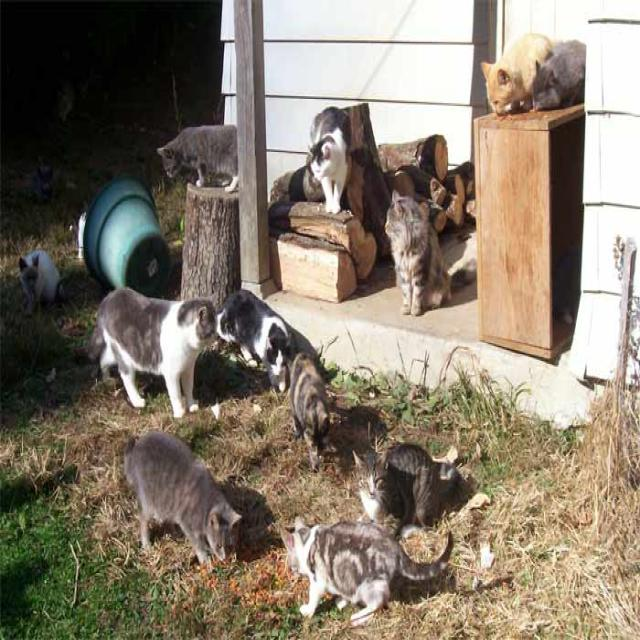cat: (281, 519, 452, 624), (89, 288, 216, 417), (124, 433, 241, 562), (354, 444, 466, 535), (385, 191, 450, 314), (218, 290, 296, 390), (481, 34, 551, 114), (158, 126, 239, 193), (290, 353, 329, 470), (309, 107, 351, 213), (532, 42, 584, 110), (19, 250, 59, 312)
